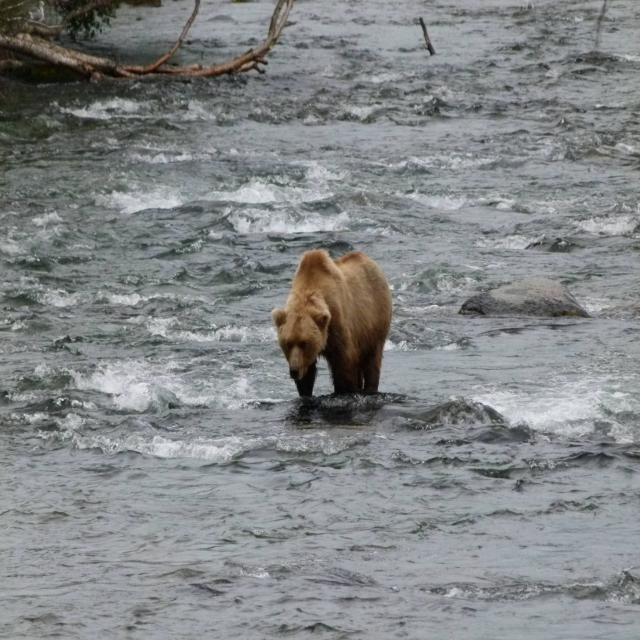bear face: (271, 251, 392, 391)
